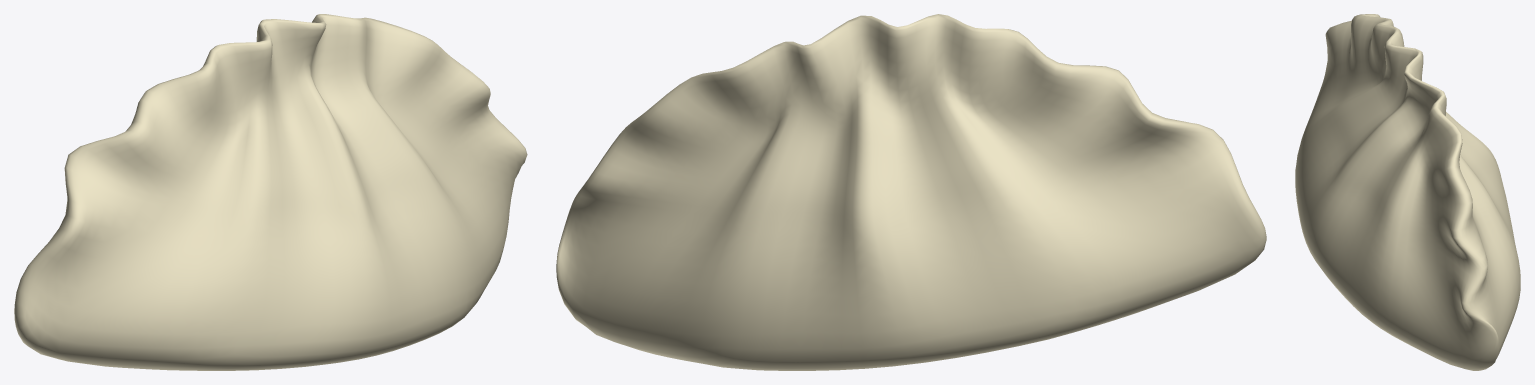
File: gyouza.fbx
3 views of the same model, side by side, from view 1: azimuth 30°, elevation 25°; view 2: azimuth 150°, elevation 25°; view 3: azimuth 270°, elevation 25° (orthographic). The views are drawn at different scales.
Parts seen in each view (by area): view 1: Dumpling.001; view 2: Dumpling.001; view 3: Dumpling.001.
Part boxes in pixels (box(x1,y1,x2,y2)): Dumpling.001: box(14, 14, 527, 370); Dumpling.001: box(556, 14, 1266, 370); Dumpling.001: box(1295, 14, 1520, 370).
Size of the model in its own units: 26.41 by 14.57 by 12.37.
